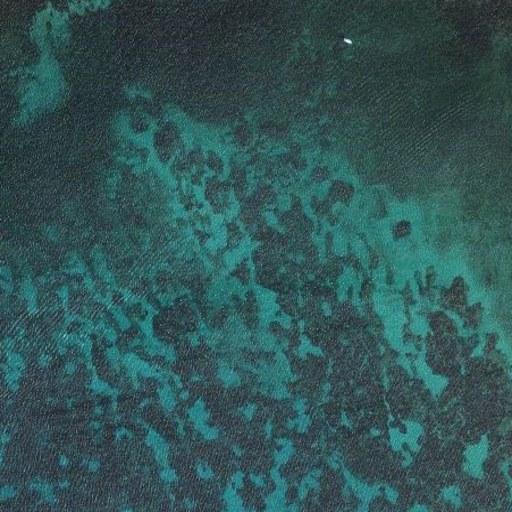ship: (340, 35, 355, 47)
